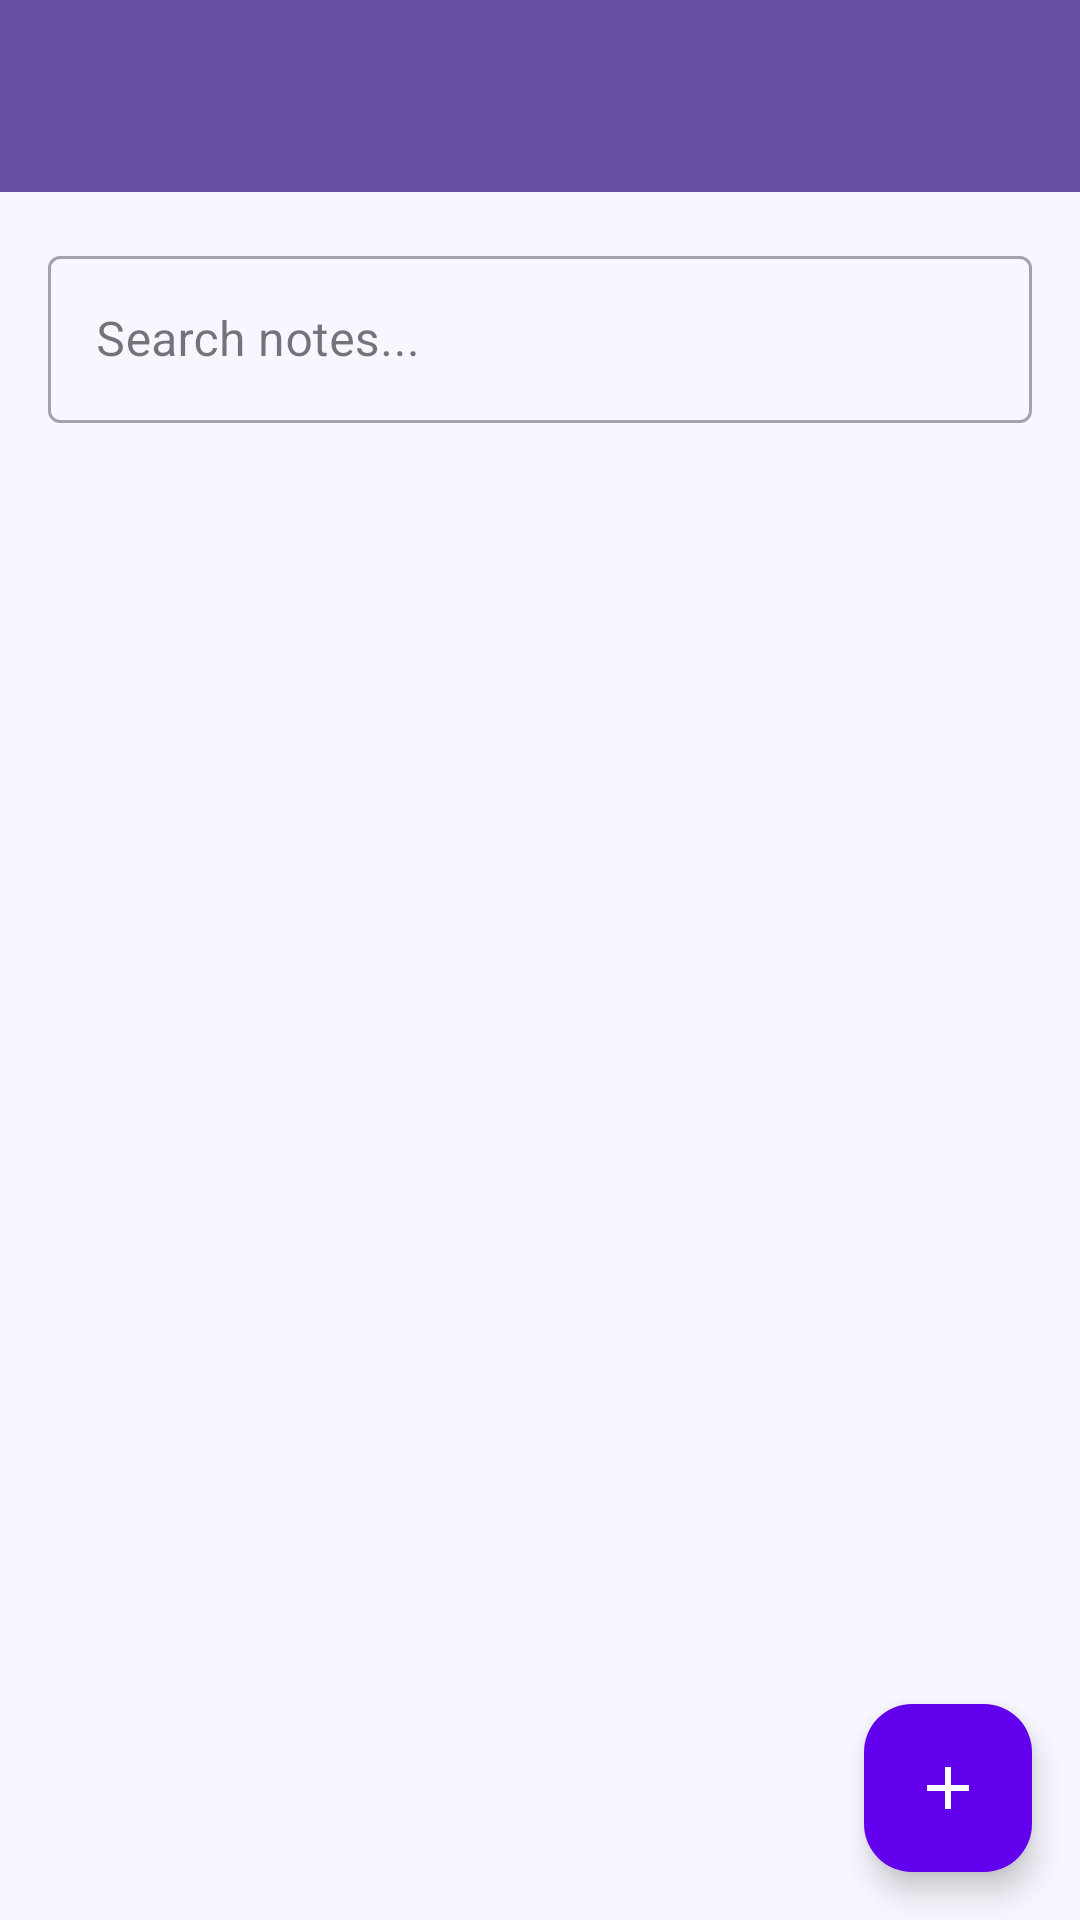

Screen size 1080w x 1920h. Icon name, then its box in pixels as {"left": x1, "top": y1, "right": x2, "bottom": y2}:
Add Note: {"left": 864, "top": 1704, "right": 1032, "bottom": 1872}
